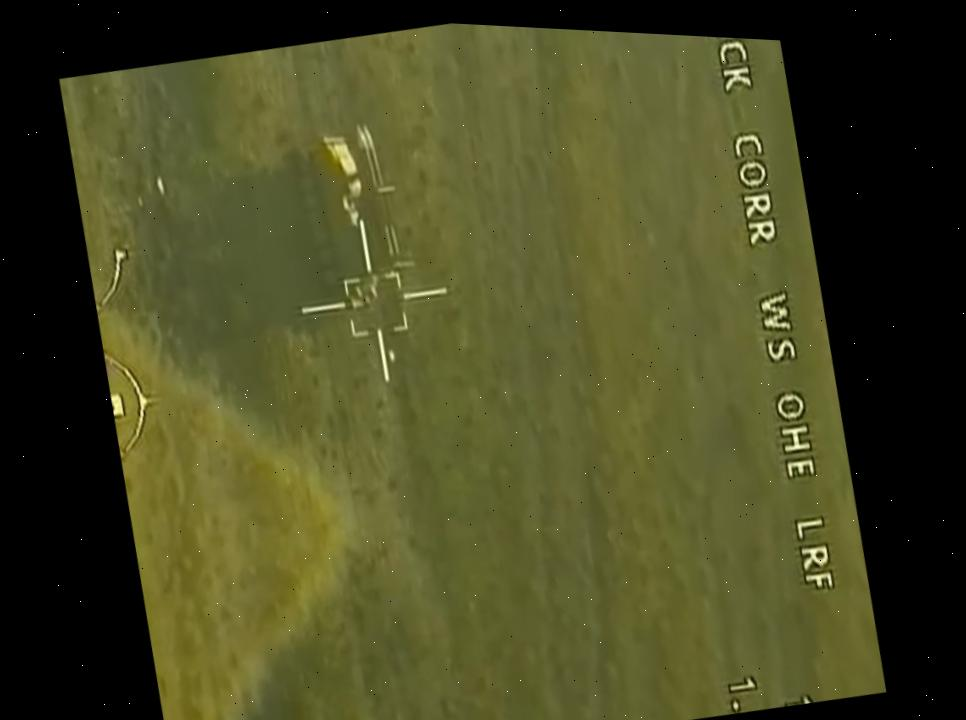armored_car: (278, 105, 425, 316)
